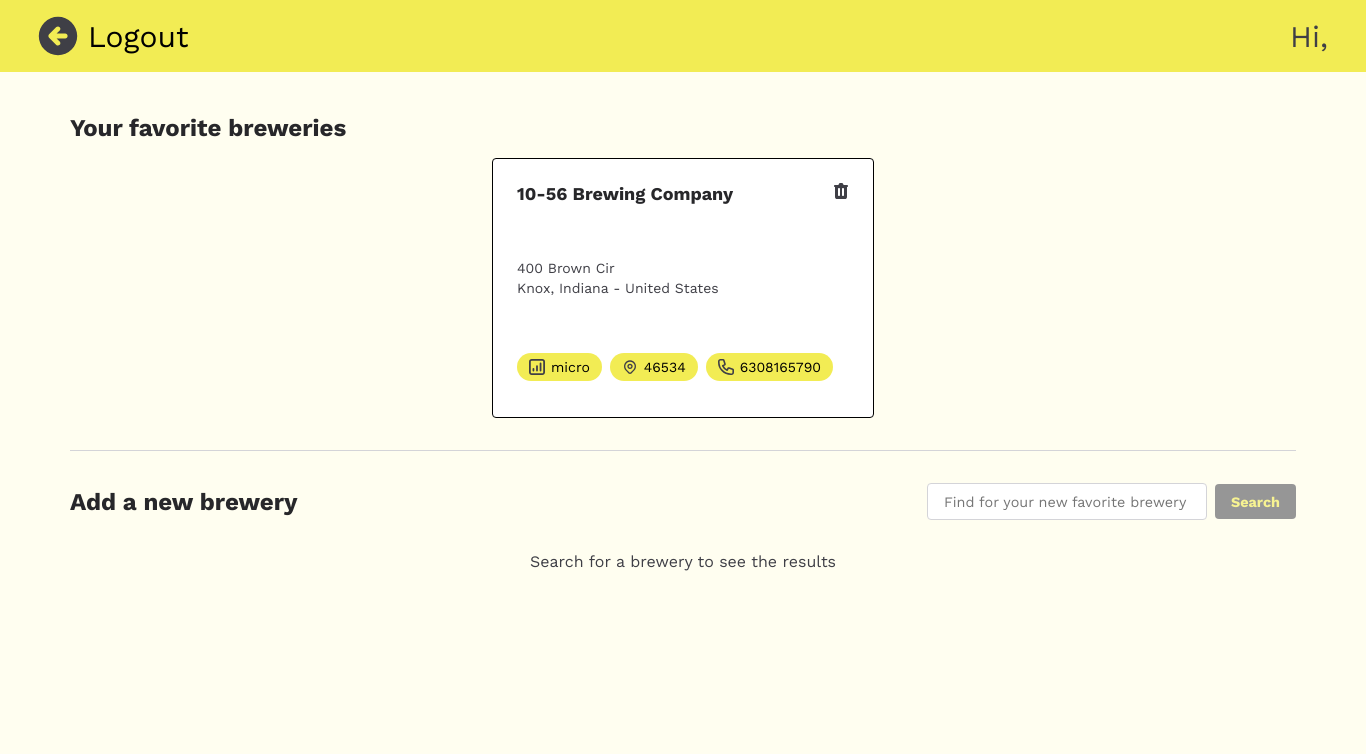
Companies Page › should show search results when Enter key is pressed
In the field with placeholder "Find for your new favorite brewery": (1067, 502) [927, 483, 1207, 520], type "brewery"
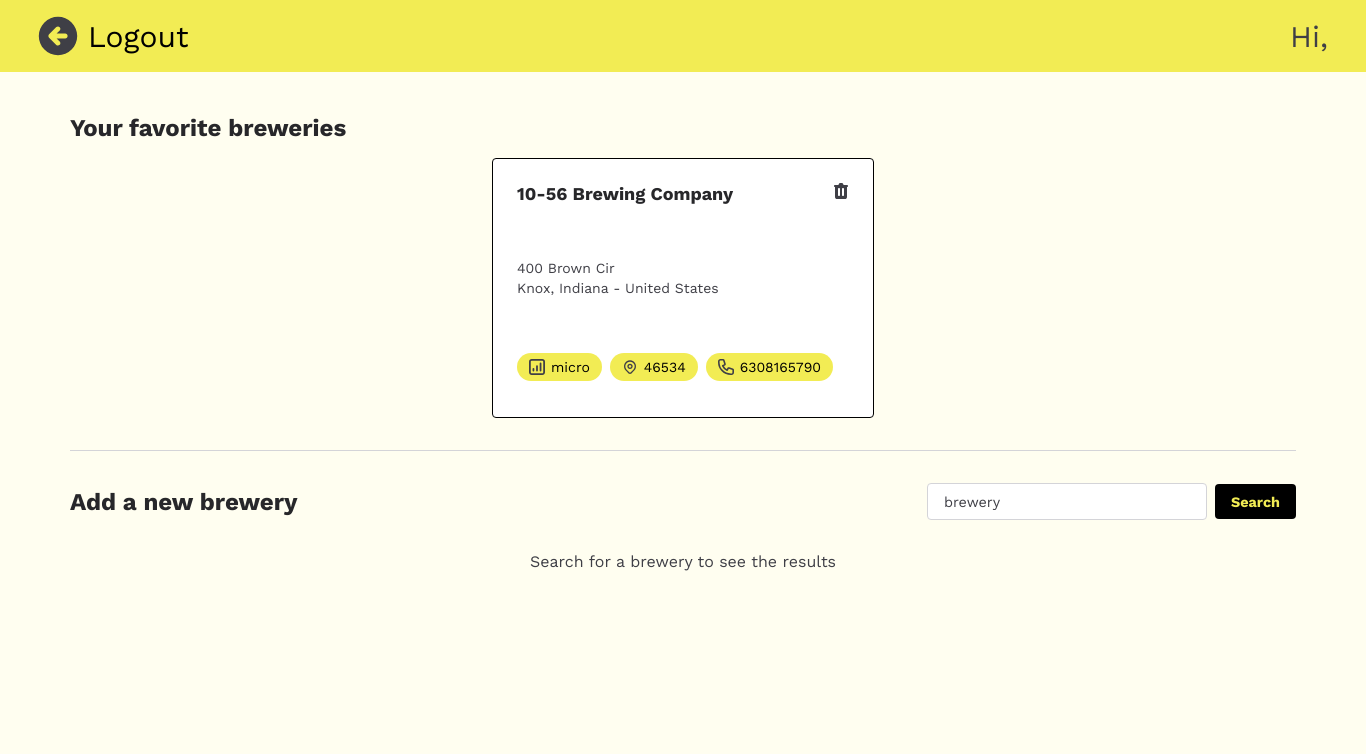
Press Enter in the field with placeholder "Find for your new favorite brewery", box [927, 483, 1207, 520]
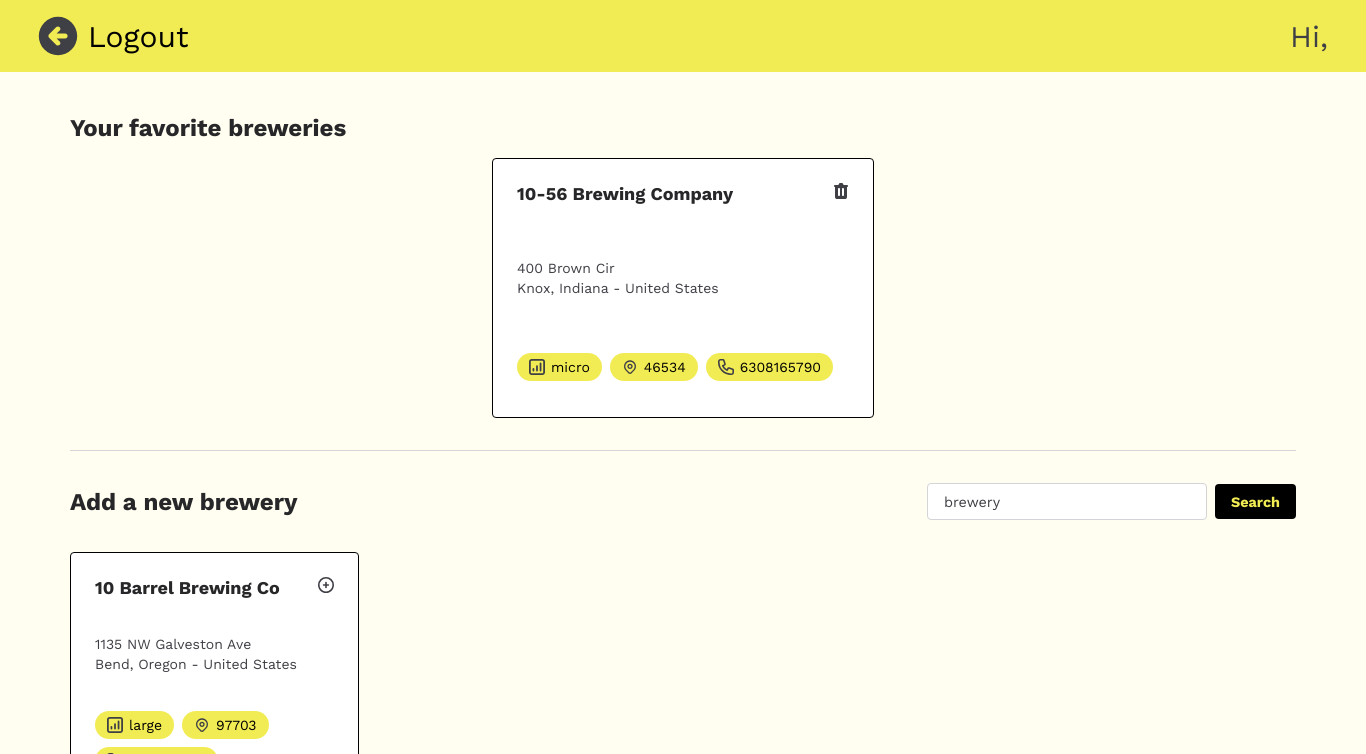
Check: the heading "10 Barrel Brewing Co" is shown, box [95, 577, 280, 598]
